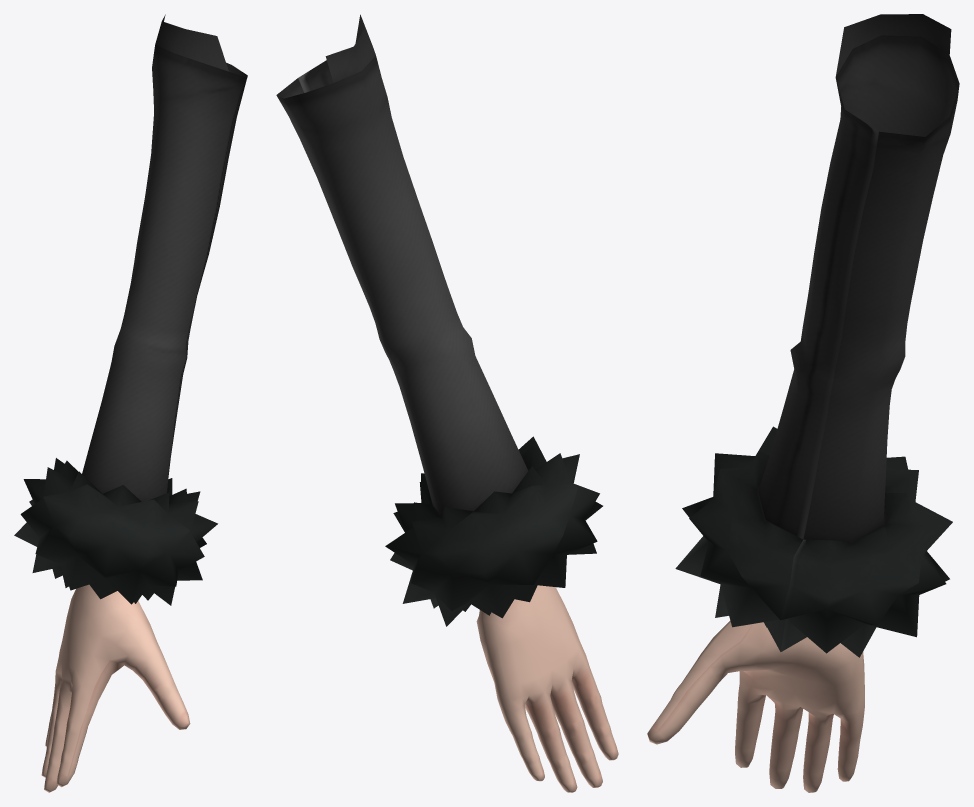
Rendered from cynthia_brazo.obj.
The picture shows the model from 3 angles, left to right: view 1: azimuth 30°, elevation 25°; view 2: azimuth 150°, elevation 25°; view 3: azimuth 270°, elevation 25°; orthographic projection. The views are drawn at different scales.
Parts seen in each view (by area): view 1: _007_tr0001_00_baseSkin.001, _005_tr0001_00_baseSkin.001, _003_tr0001_00_baseSkin.001; view 2: _007_tr0001_00_baseSkin.001, _005_tr0001_00_baseSkin.001, _003_tr0001_00_baseSkin.001; view 3: _007_tr0001_00_baseSkin.001, _005_tr0001_00_baseSkin.001, _003_tr0001_00_baseSkin.001.
Part boxes in pixels (bbox=[...]): _007_tr0001_00_baseSkin.001: bbox=[82, 14, 247, 501]; _005_tr0001_00_baseSkin.001: bbox=[14, 458, 217, 605]; _003_tr0001_00_baseSkin.001: bbox=[41, 584, 190, 792]; _007_tr0001_00_baseSkin.001: bbox=[276, 14, 528, 515]; _005_tr0001_00_baseSkin.001: bbox=[385, 436, 602, 626]; _003_tr0001_00_baseSkin.001: bbox=[476, 585, 618, 792]; _007_tr0001_00_baseSkin.001: bbox=[758, 14, 959, 541]; _005_tr0001_00_baseSkin.001: bbox=[675, 426, 952, 657]; _003_tr0001_00_baseSkin.001: bbox=[647, 621, 864, 792].
Size of the model in its own units: 0.273 by 0.7292 by 0.2335.
